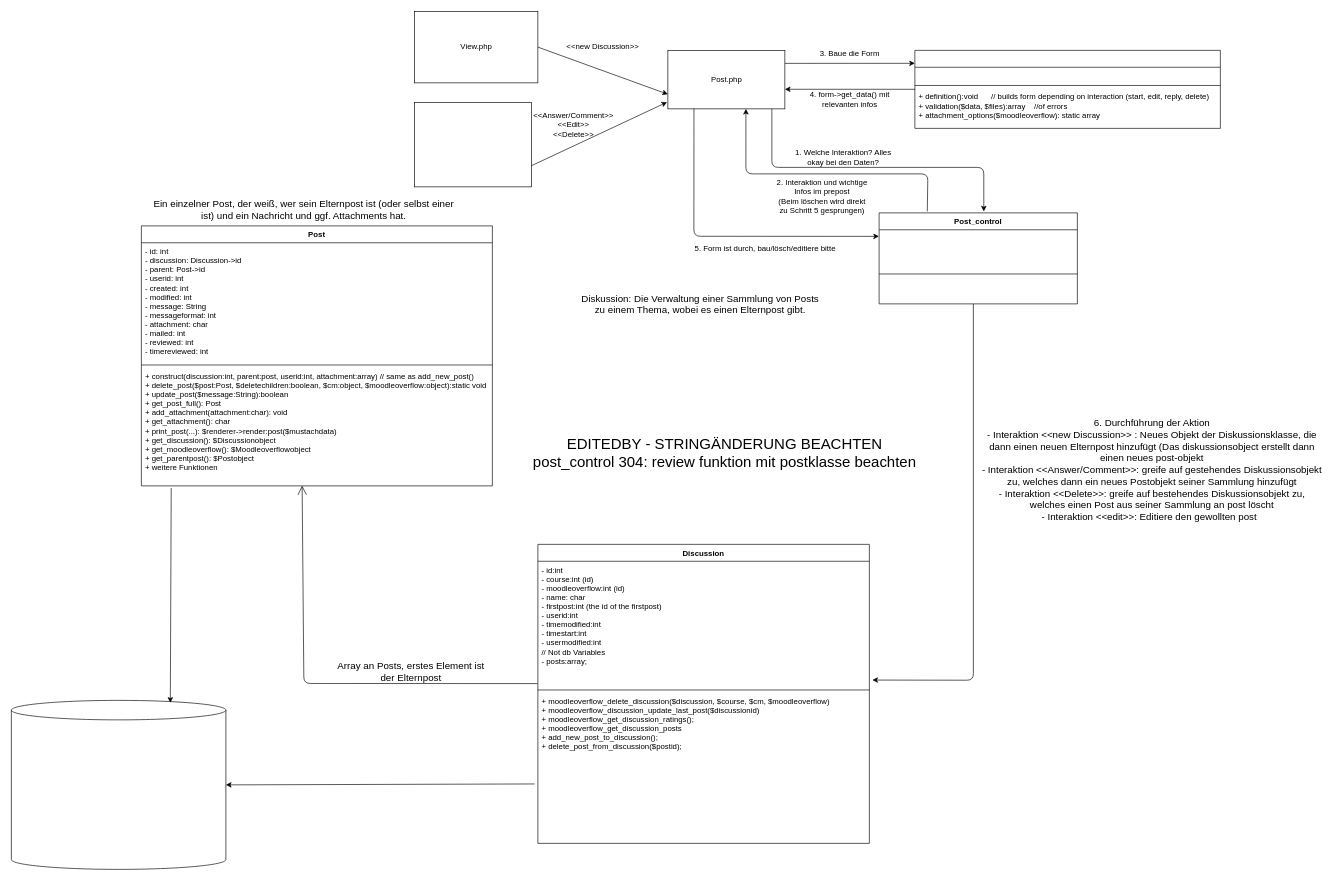
Some shapes in this 1336 by 881 pixel diagram are drawn without their labels. The box of each missing label's shape, as (x1, y1, x2, y2) in pixels:
discussion.php: (414, 102, 531, 187)
mdl_moodleoverflow: (11, 700, 226, 869)
Post_Form: (914, 50, 1220, 128)
